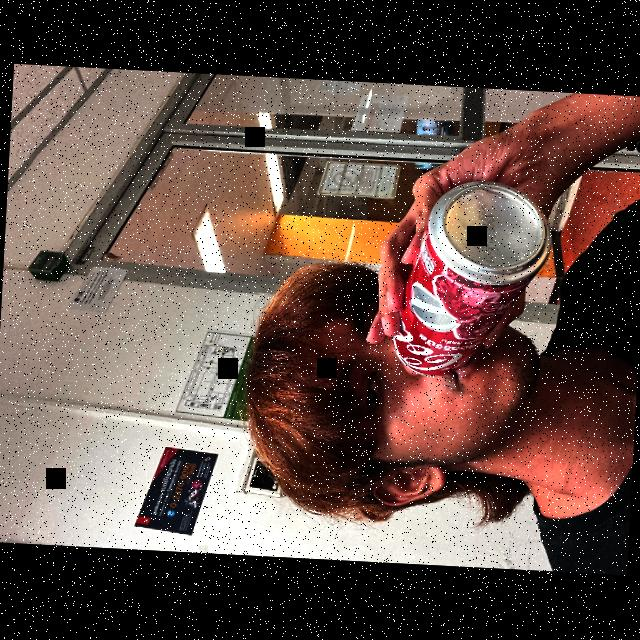can: (380, 177, 556, 398)
